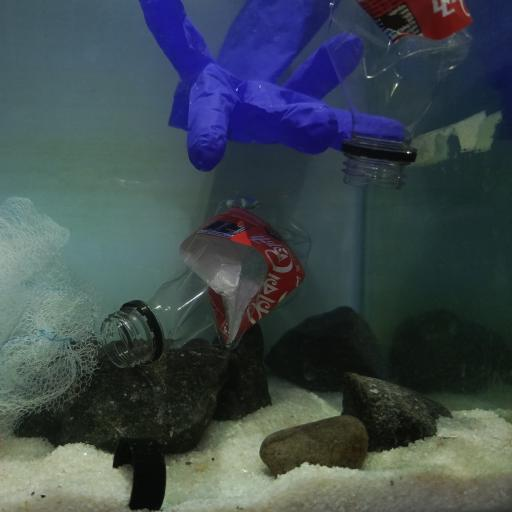bottle_cap: (114, 437, 166, 512)
glove: (138, 1, 407, 172)
net: (2, 195, 100, 440)
plastic_bottle: (100, 195, 313, 369), (325, 0, 473, 186)
